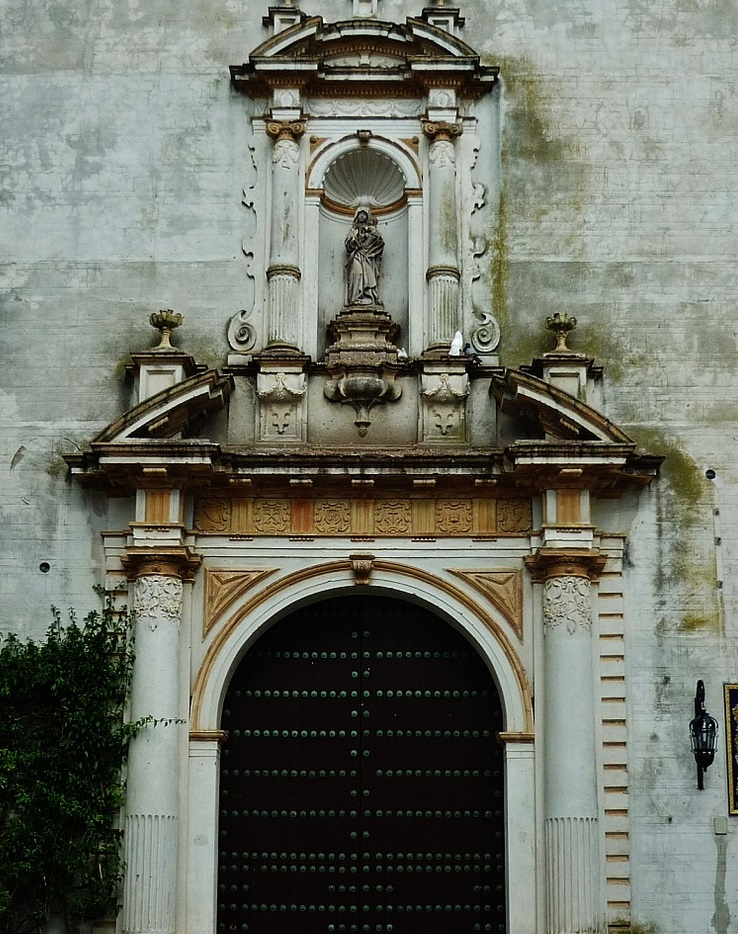arco-medio-punto: (209, 574, 518, 770)
fronton-partido: (82, 360, 656, 488), (247, 13, 487, 83)
